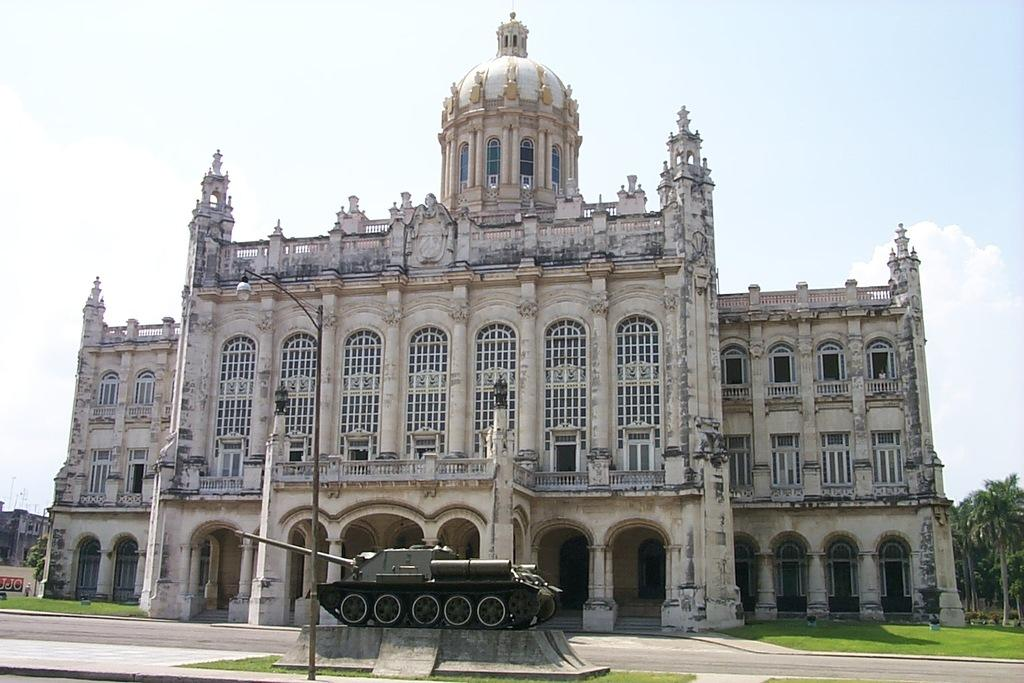Tank: (239, 531, 567, 627)
